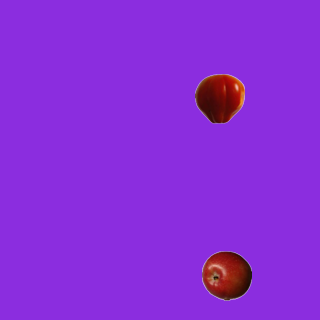Apple Braeburn: (201, 250, 251, 300)
Tomato 1: (194, 73, 244, 123)
